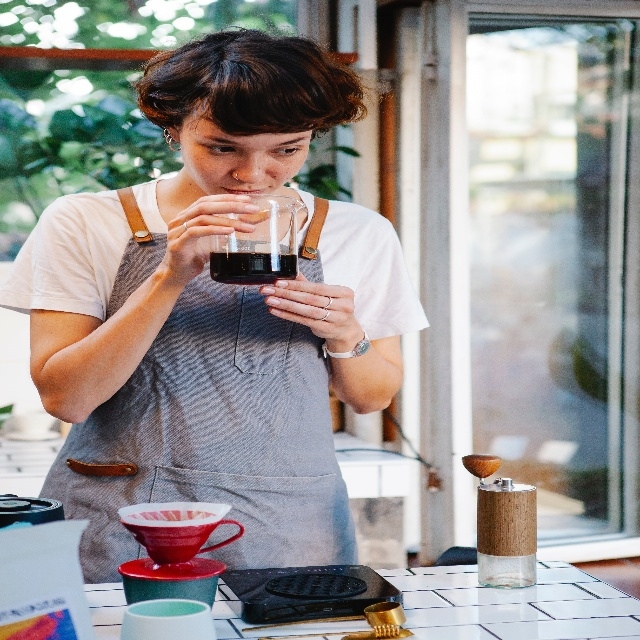Sin_guantes: (163, 194, 260, 285), (259, 268, 355, 339)
